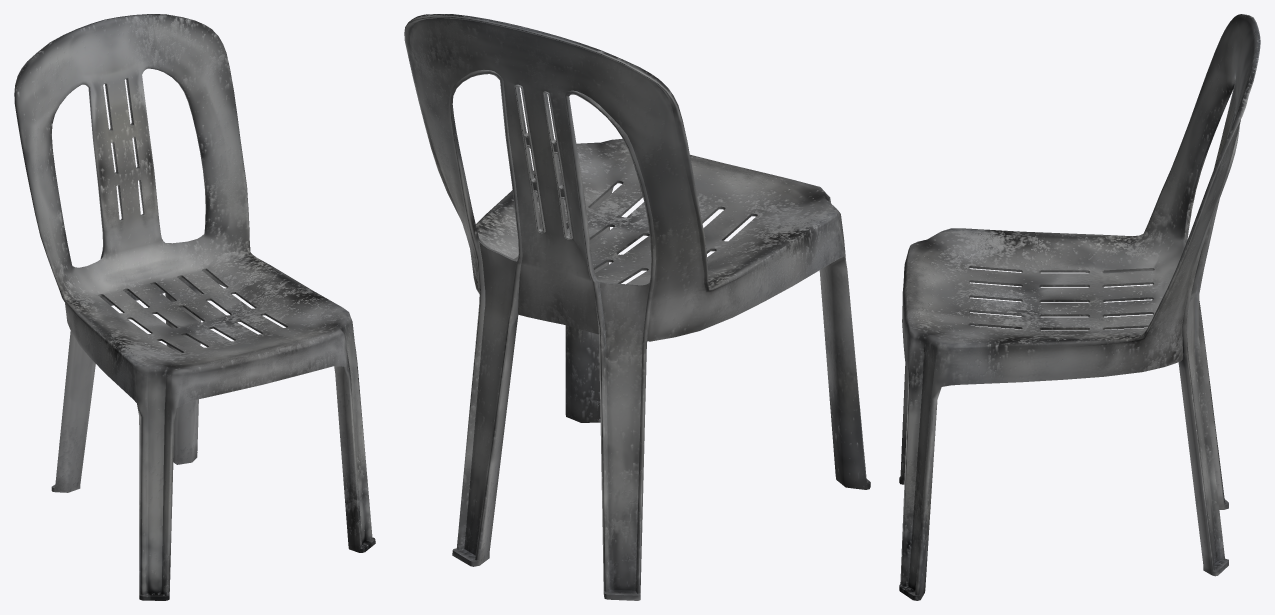
Rendered from Plastic_Chair.fbx.
3 renders of one model, left to right at view 1: azimuth 30°, elevation 25°; view 2: azimuth 150°, elevation 25°; view 3: azimuth 270°, elevation 25°, orthographic. The views are drawn at different scales.
Visible parts, largest first — view 1: Plastic_Chair; view 2: Plastic_Chair; view 3: Plastic_Chair.
Boxes of the visible parts, box(x1,y1,x2,y2) form: Plastic_Chair: box(14, 14, 375, 600); Plastic_Chair: box(404, 14, 870, 600); Plastic_Chair: box(899, 14, 1260, 600).
Bounding box in the file's own units: 47.21 × 84.34 × 55.81.
